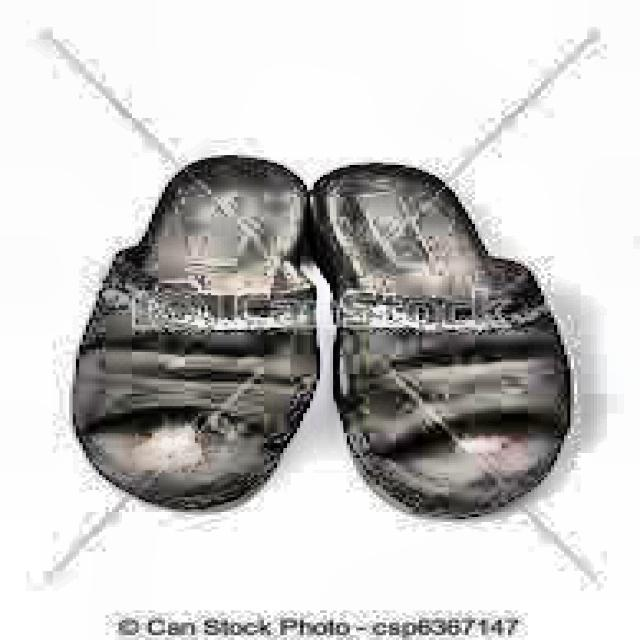shoes: (66, 87, 583, 555)
